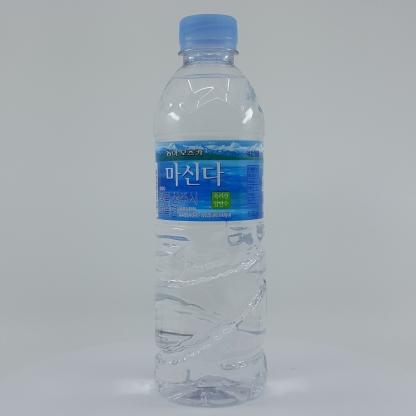-------------500ML: (154, 14, 268, 407)
